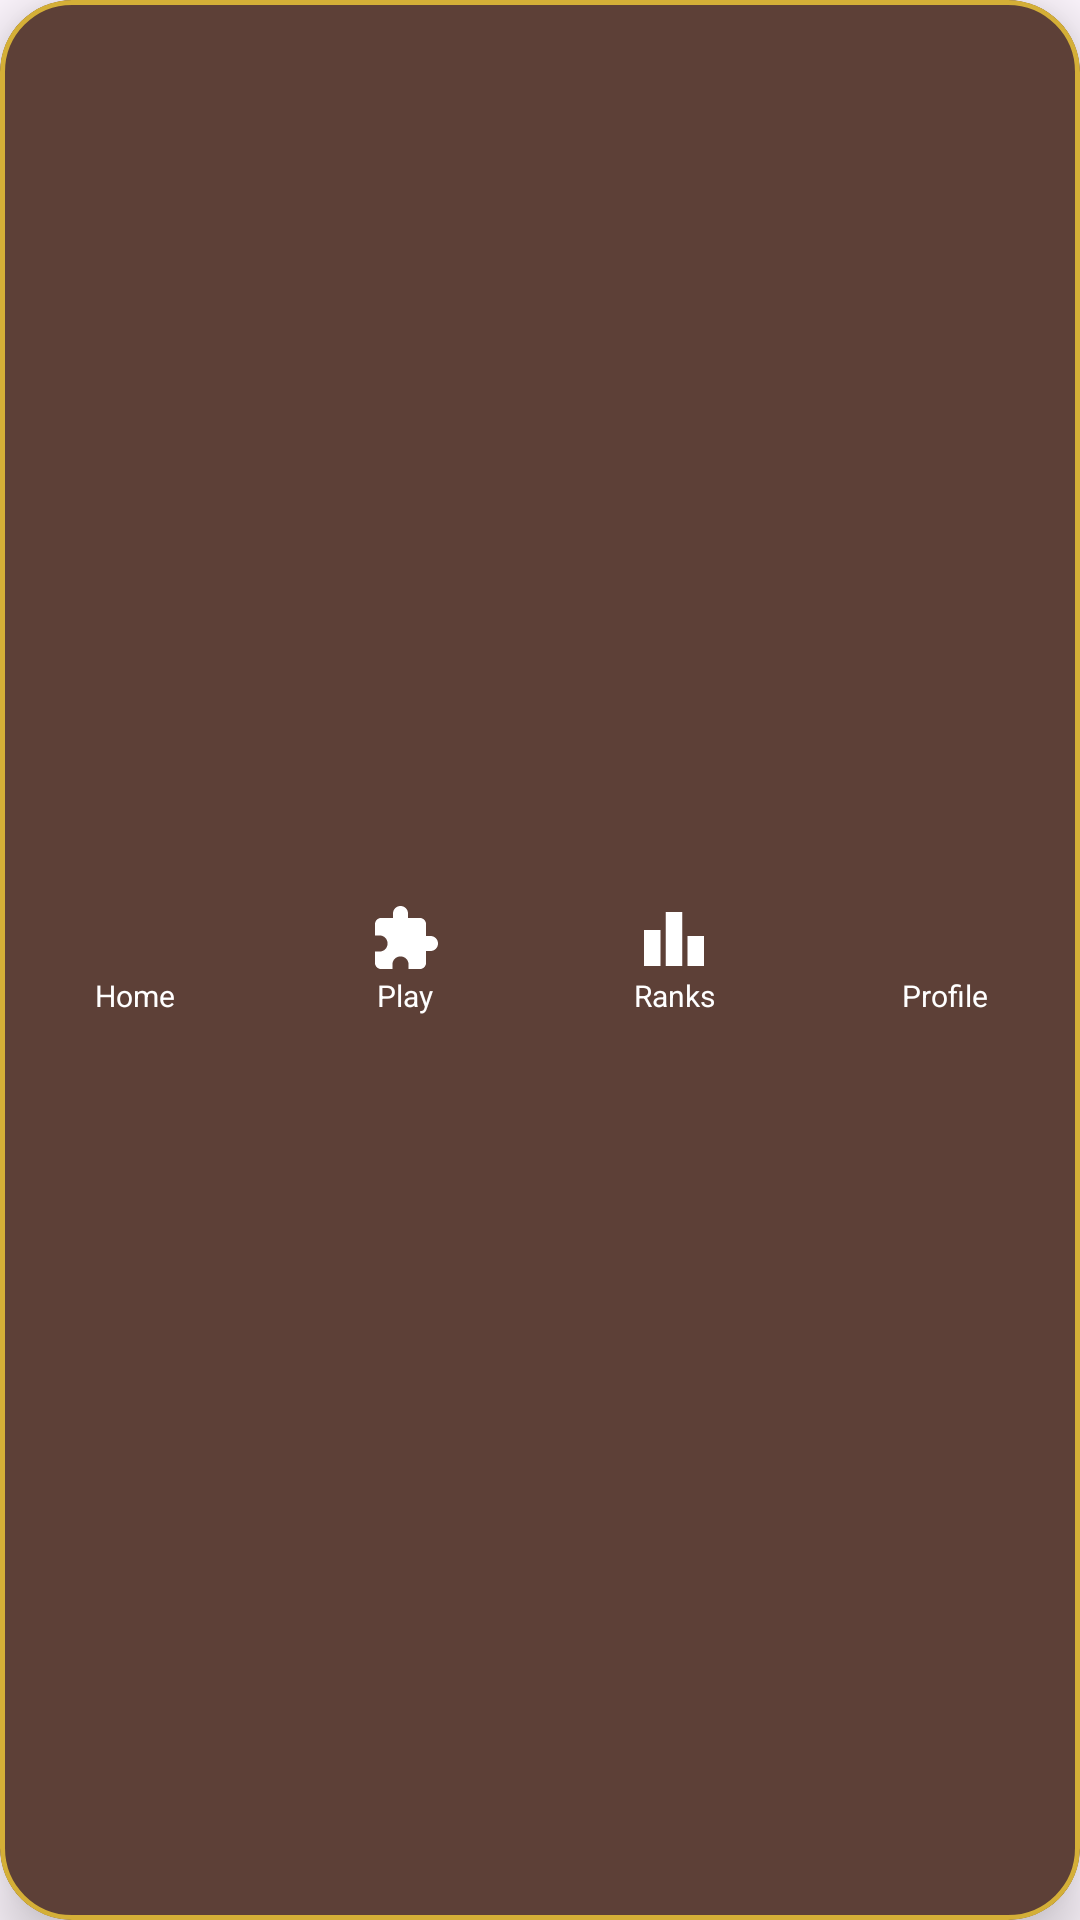

Icons on this 1080 × 1920 Android screen, each with the point to tap as point (x, y):
extension: point (406, 937)
leaderboard: point (674, 939)
